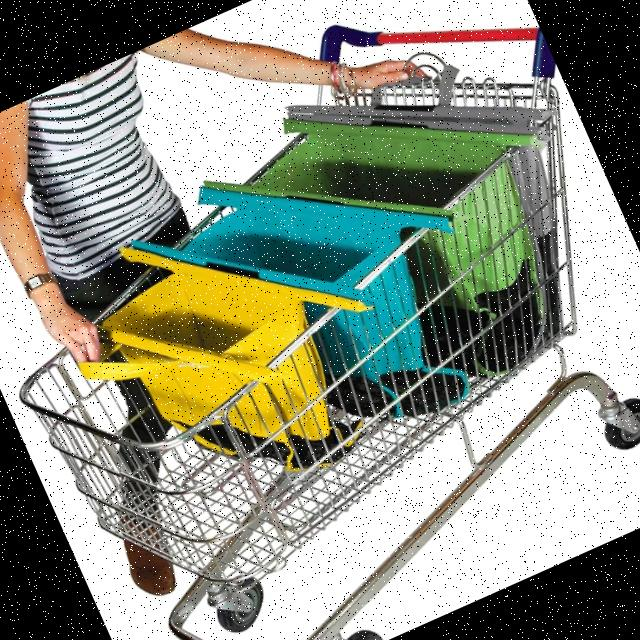Person: (0, 0, 579, 605)
